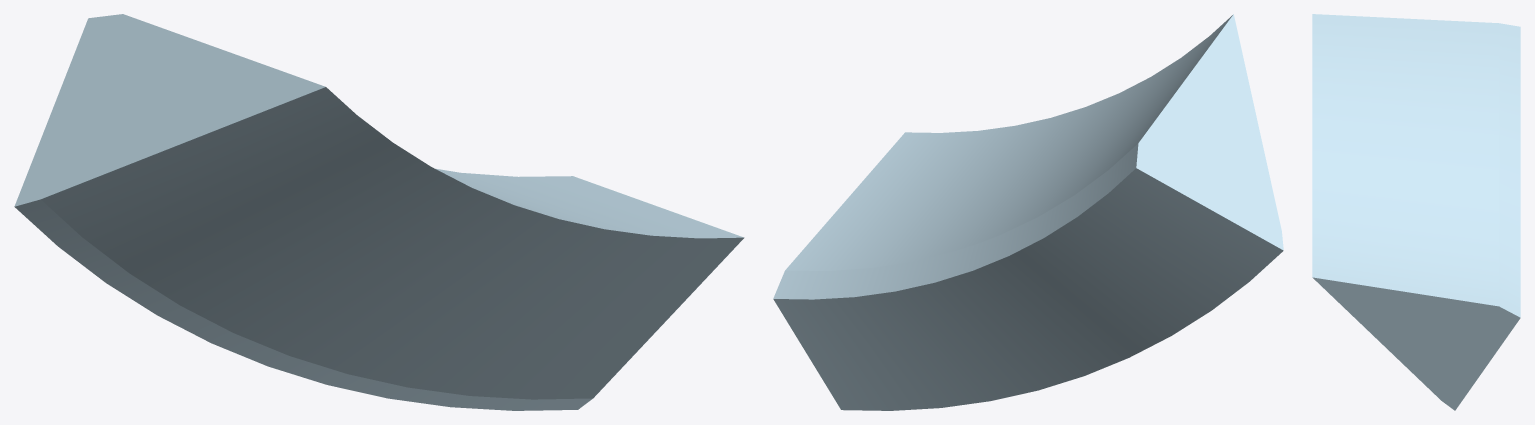
The model's file is Sub_8_Cell_1_2.gltf.
The picture shows the model from 3 angles, left to right: view 1: azimuth 30°, elevation 25°; view 2: azimuth 150°, elevation 25°; view 3: azimuth 270°, elevation 25°; orthographic projection. The views are drawn at different scales.
Parts seen in each view (by area): view 1: Sub_8_Cell_1_2; view 2: Sub_8_Cell_1_2; view 3: Sub_8_Cell_1_2.
Boxes of the visible parts, bbox=[...] form: Sub_8_Cell_1_2: bbox=[14, 14, 744, 410]; Sub_8_Cell_1_2: bbox=[773, 14, 1283, 410]; Sub_8_Cell_1_2: bbox=[1312, 14, 1520, 410].
Bounding box in the file's own units: 0.1123 × 0.0895 × 0.0581.
